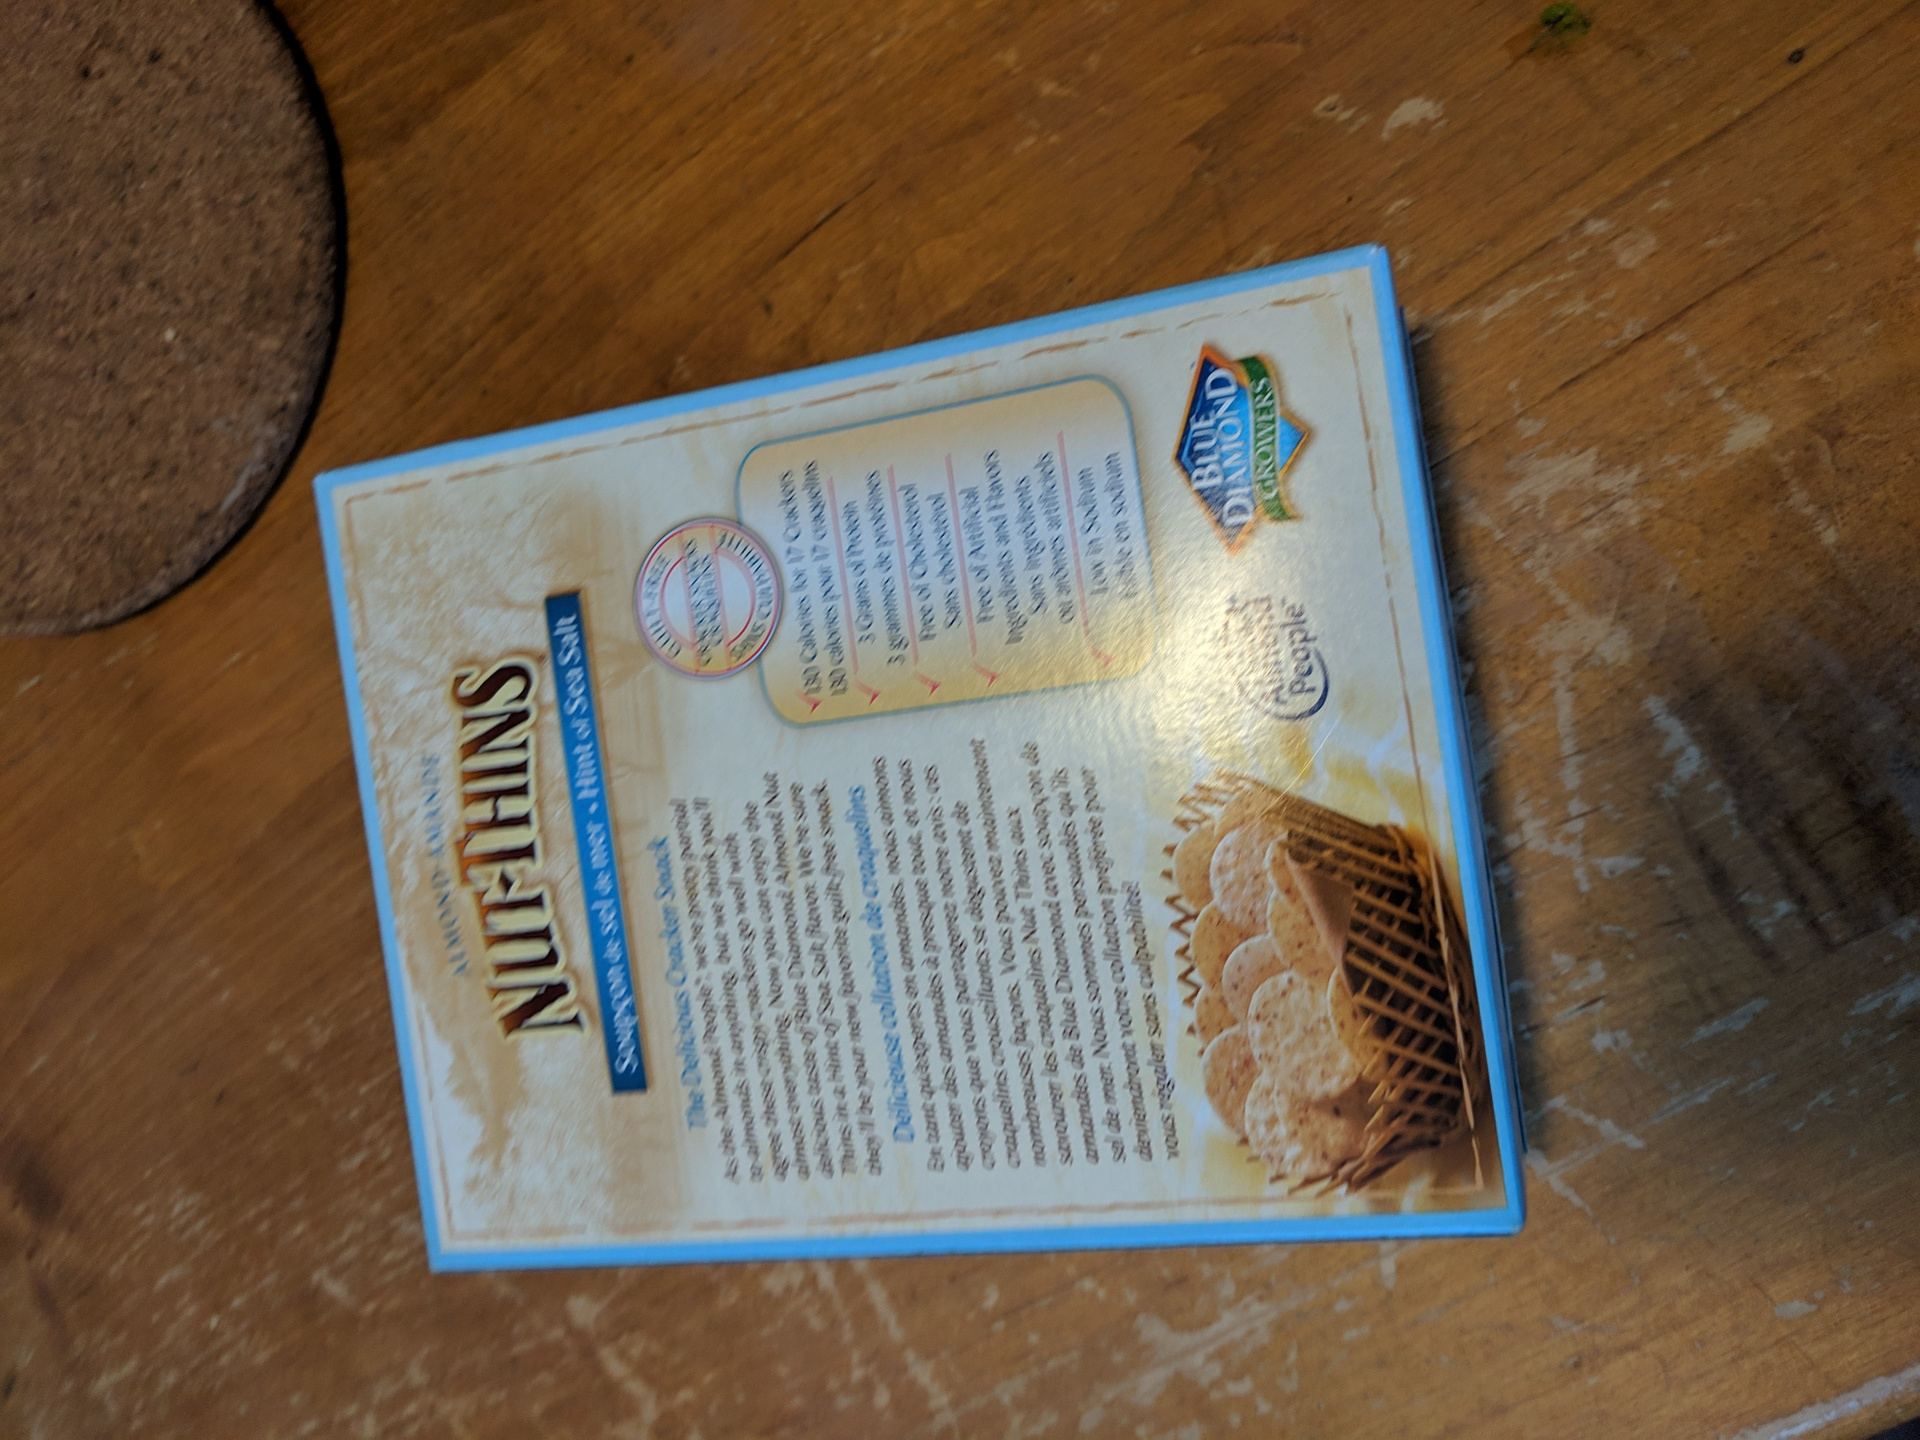blue_diamond_nut_thins_almond_seasalt: (382, 363, 1525, 1243)
